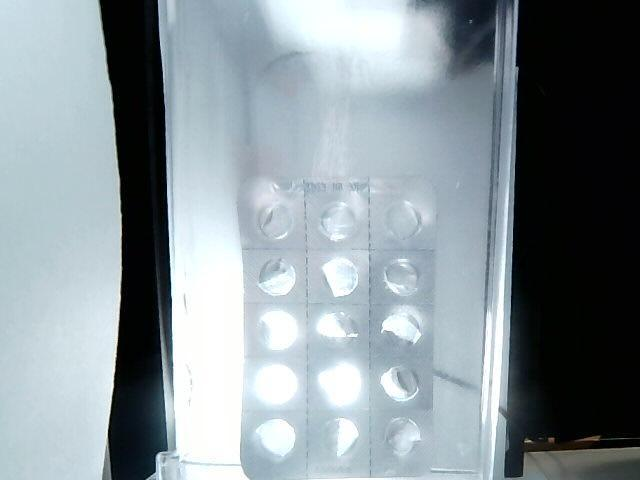Light Front: (238, 175, 438, 480)
No Pill Front: (322, 416, 362, 461), (254, 364, 296, 403), (381, 364, 420, 404), (385, 420, 422, 462), (256, 419, 295, 458), (255, 259, 295, 296), (321, 367, 361, 404), (316, 261, 358, 296), (319, 316, 358, 352), (321, 203, 358, 239), (382, 314, 421, 348), (384, 204, 421, 239), (259, 203, 294, 239), (385, 259, 420, 294), (260, 312, 293, 348)
